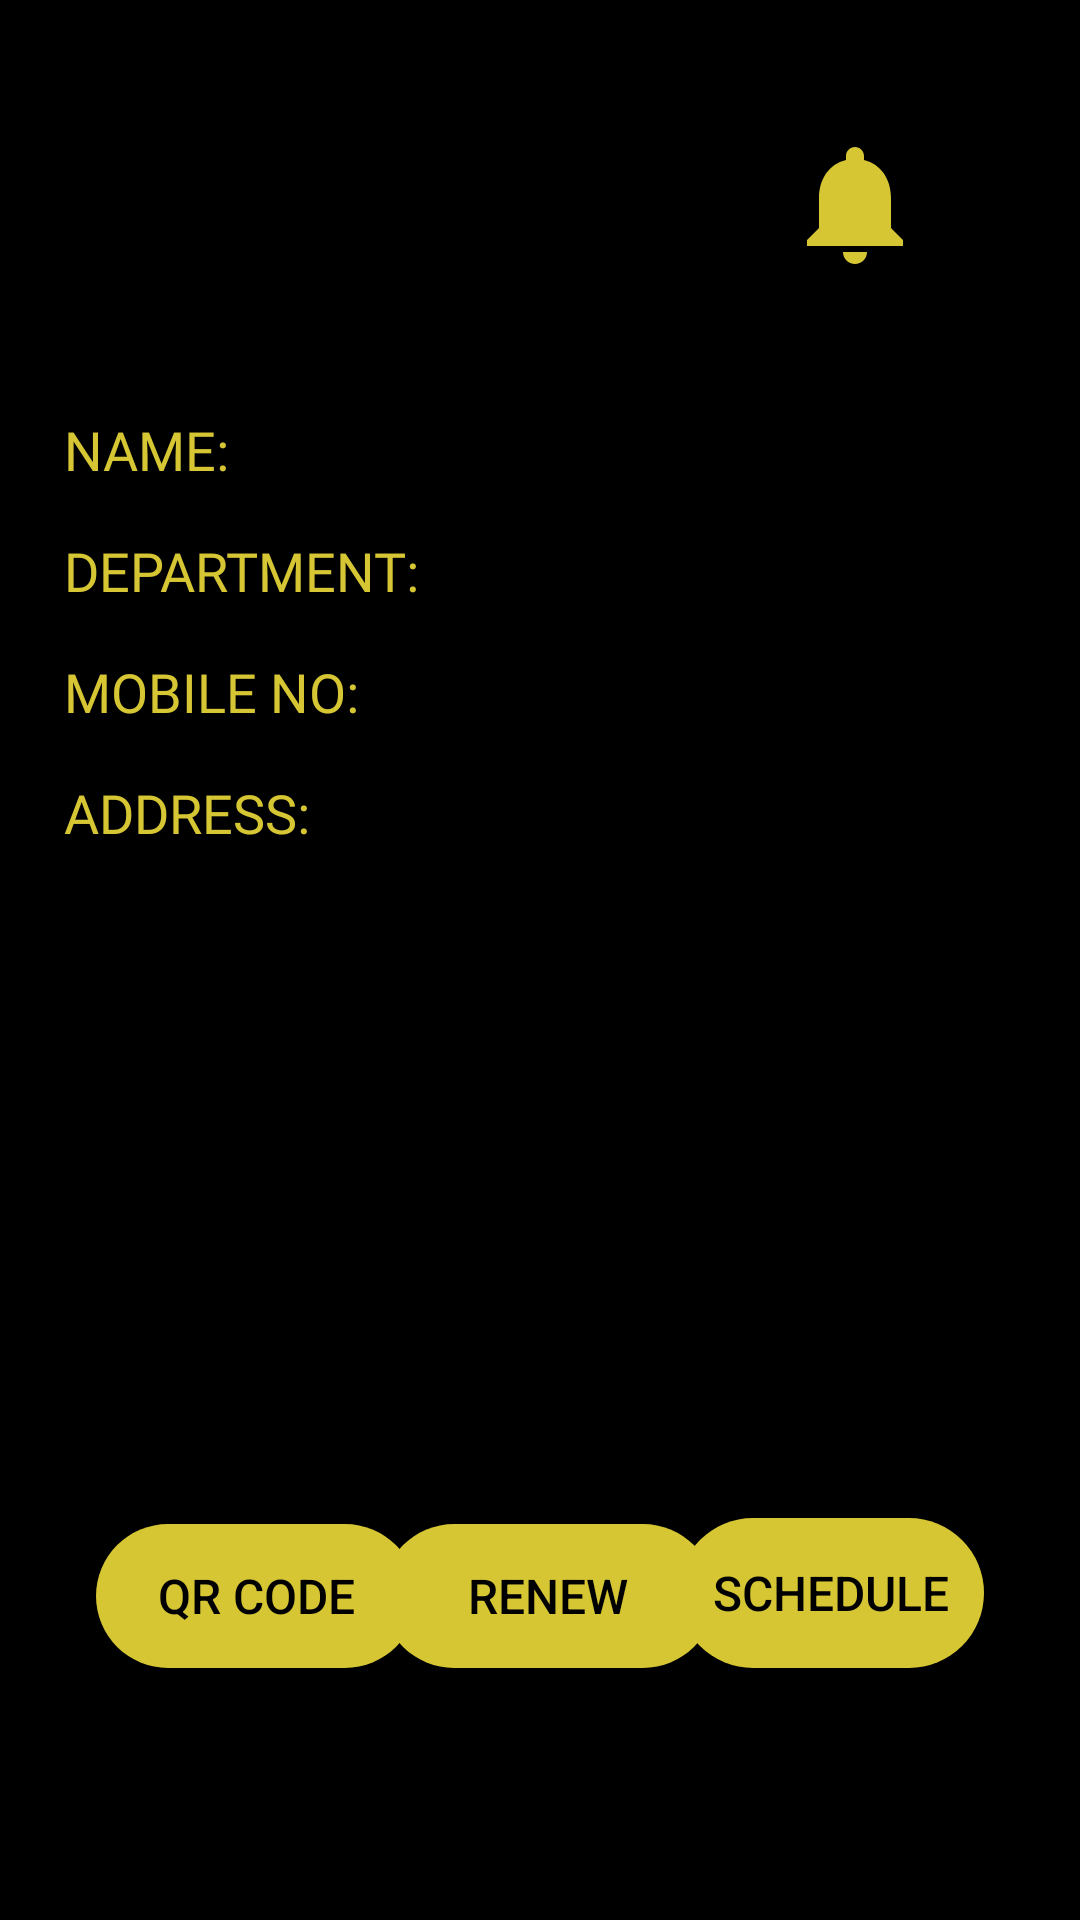

Named icons in this screenshot (1080×1920) and their centers, (x,y):
notificationsylw: (855,205)
